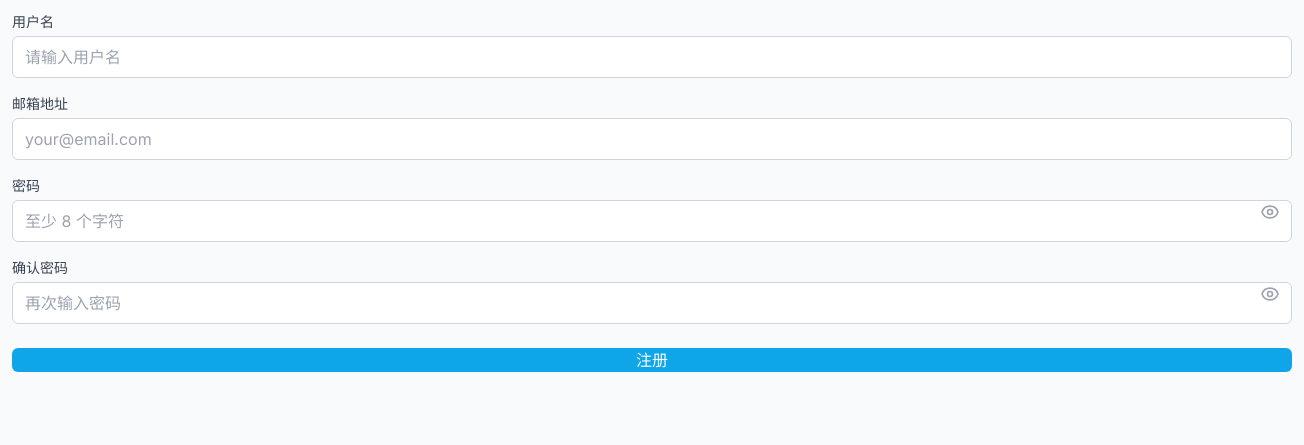
RegisterForm - 表单验证 › 太短的密码应该显示错误提示
This screenshot has width=1304, height=445.
Type "short" into the password field labelled "密码".
click(652, 221); type("short")  # box [12,200,1292,242]
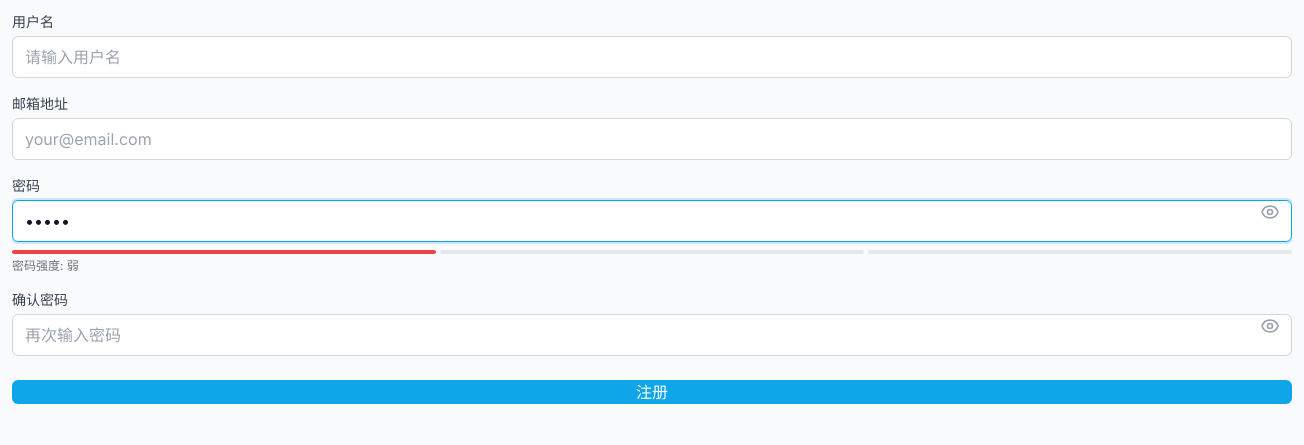
Click the button "注册".
click(652, 392)  # box [12,380,1292,404]
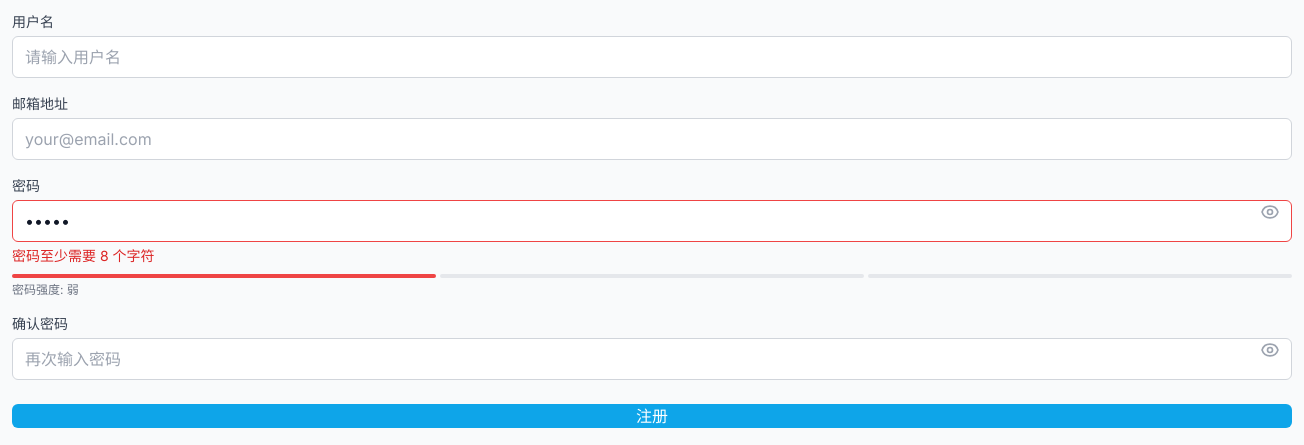
Now the text "密码至少需要 8 个字符" is shown, box [12,247,154,264]
